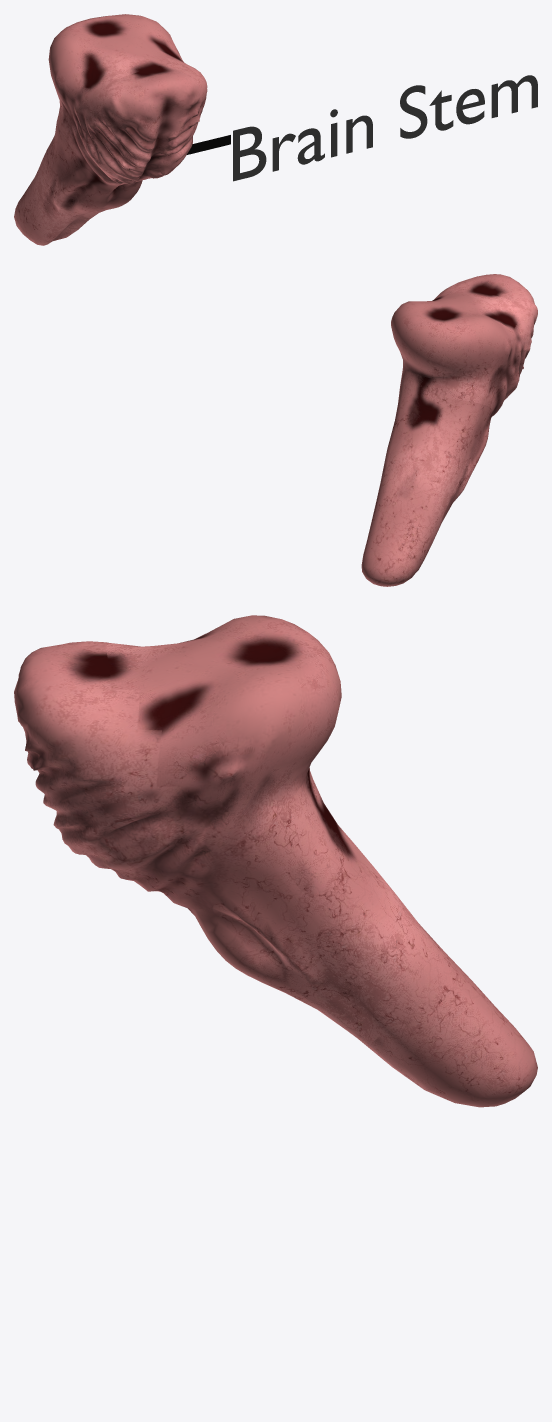
The model's file is brain-stem.glb.
3 renders of one model, top to bottom at view 1: azimuth 30°, elevation 25°; view 2: azimuth 150°, elevation 25°; view 3: azimuth 270°, elevation 25°, orthographic. The views are drawn at different scales.
Visible parts, largest first — view 1: stem (×3); view 2: stem; view 3: stem.
Boxes of the visible parts, x1,y1,x2,y2 form: stem (×3): (14,14,537,245); stem: (361,274,537,586); stem: (14,615,537,1107).
Size of the model in its own units: 4.38 by 2.09 by 2.18.
Materials: 3 (1 with a texture image).
